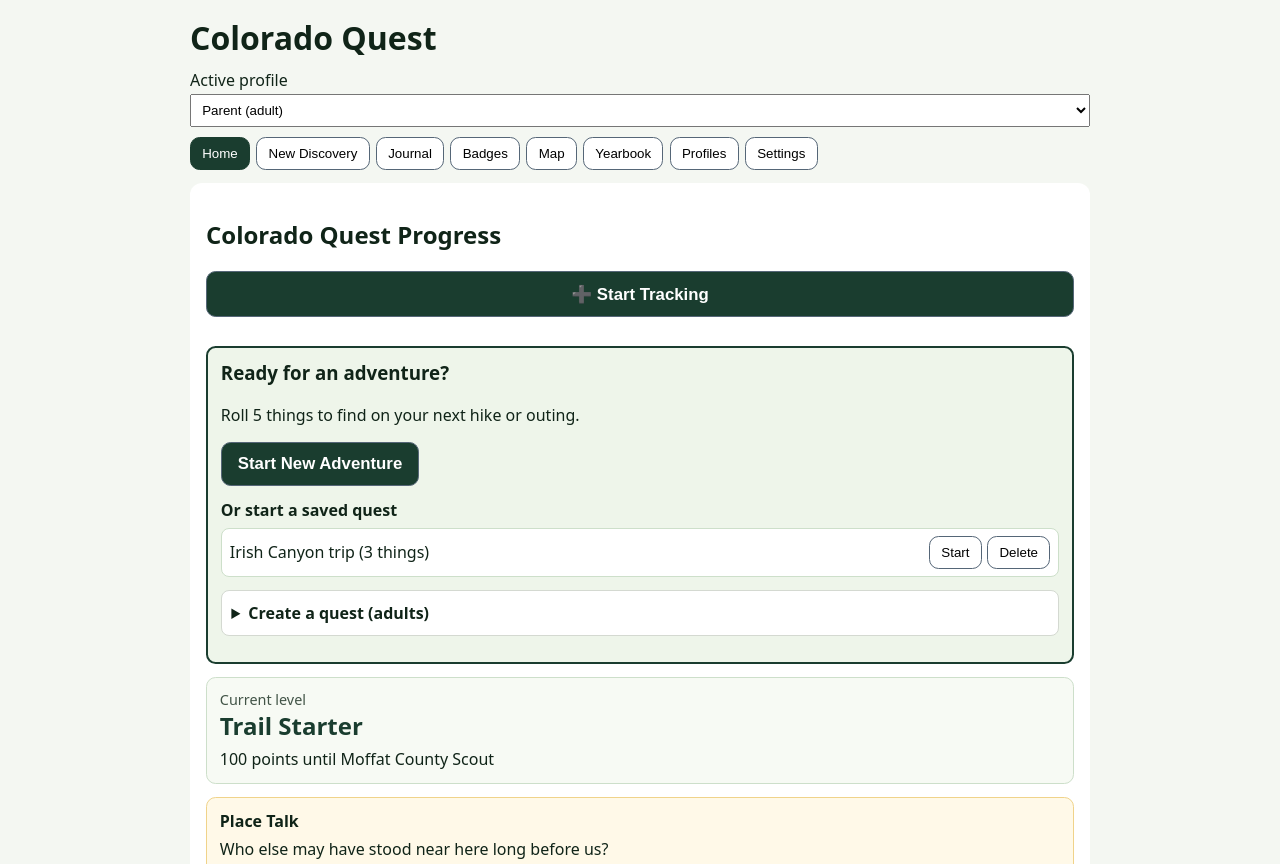
Test: saved quests › lists saved quests and starts one with its own items
Expected: the text "Irish Canyon trip (3 things)" is shown, [230,541,429,563]
Click the button "Start": (955, 552) [929,536,982,569]
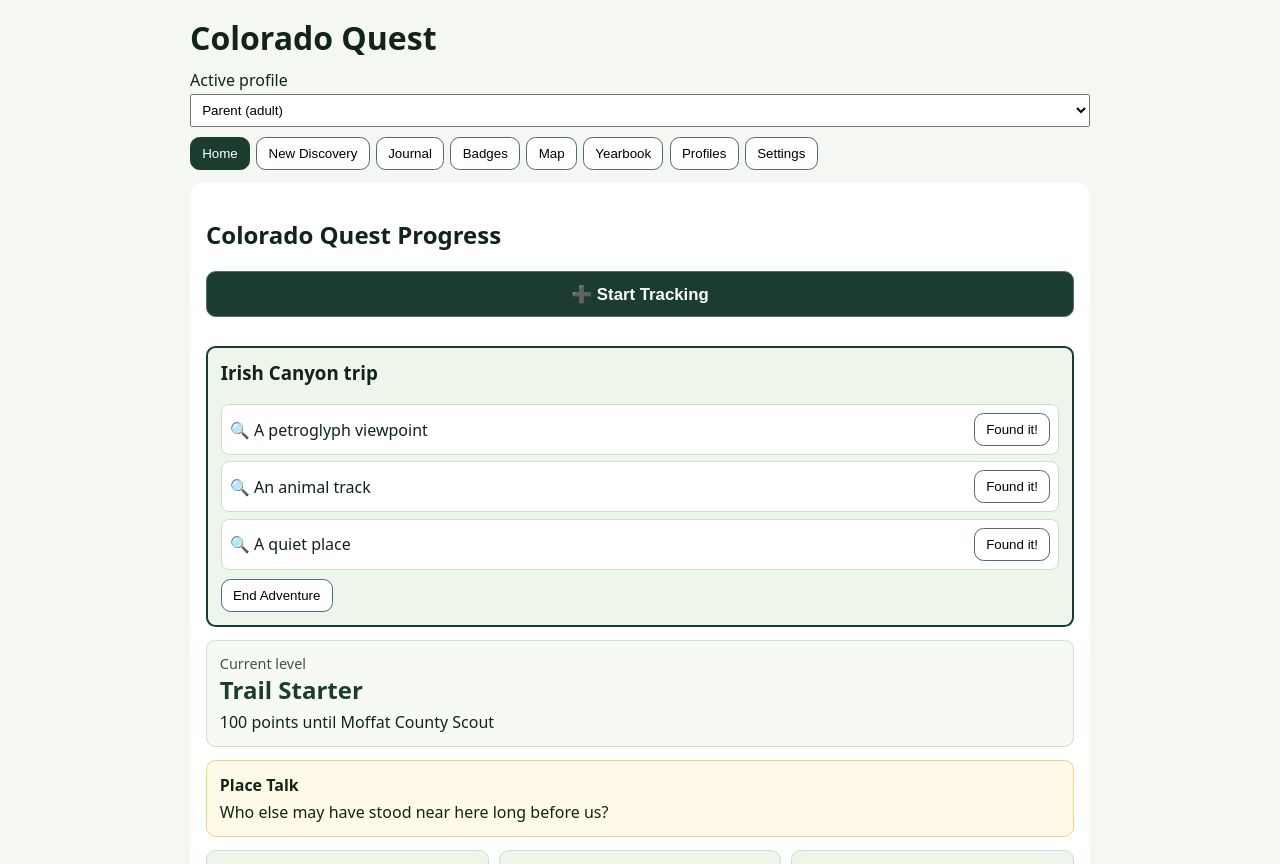
Expected: the heading "Irish Canyon trip" is shown, [221,360,378,385]
Expected: the number of buttons "Found it!" is 3, [974,413,1050,446]; [974,470,1050,503]; [974,528,1050,561]
